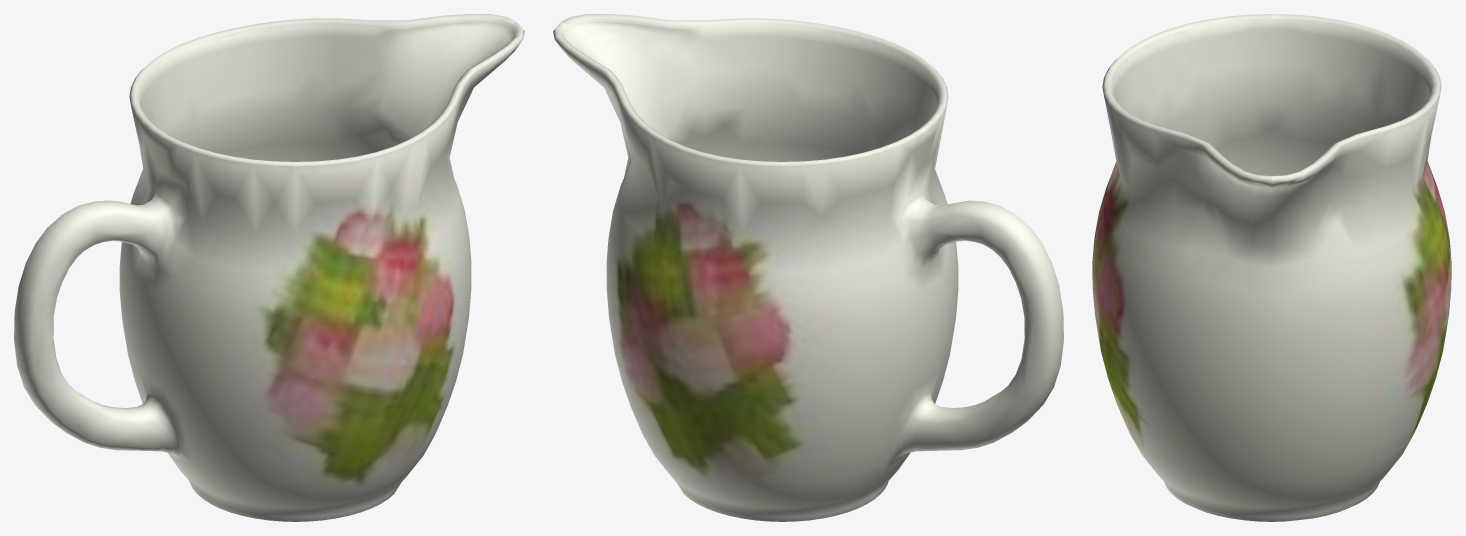
File: jug.glb
3 views of the same model, side by side, from view 1: azimuth 30°, elevation 25°; view 2: azimuth 150°, elevation 25°; view 3: azimuth 270°, elevation 25° (orthographic). The views are drawn at different scales.
Visible parts, largest first — view 1: jug_01; view 2: jug_01; view 3: jug_01.
Boxes of the visible parts, x1,y1,x2,y2 form: jug_01: (14,14,524,521); jug_01: (553,14,1063,521); jug_01: (1092,14,1451,521).
Bounding box in the file's own units: 0.2753 × 0.2113 × 0.1675.
1 material, 1 textured.
